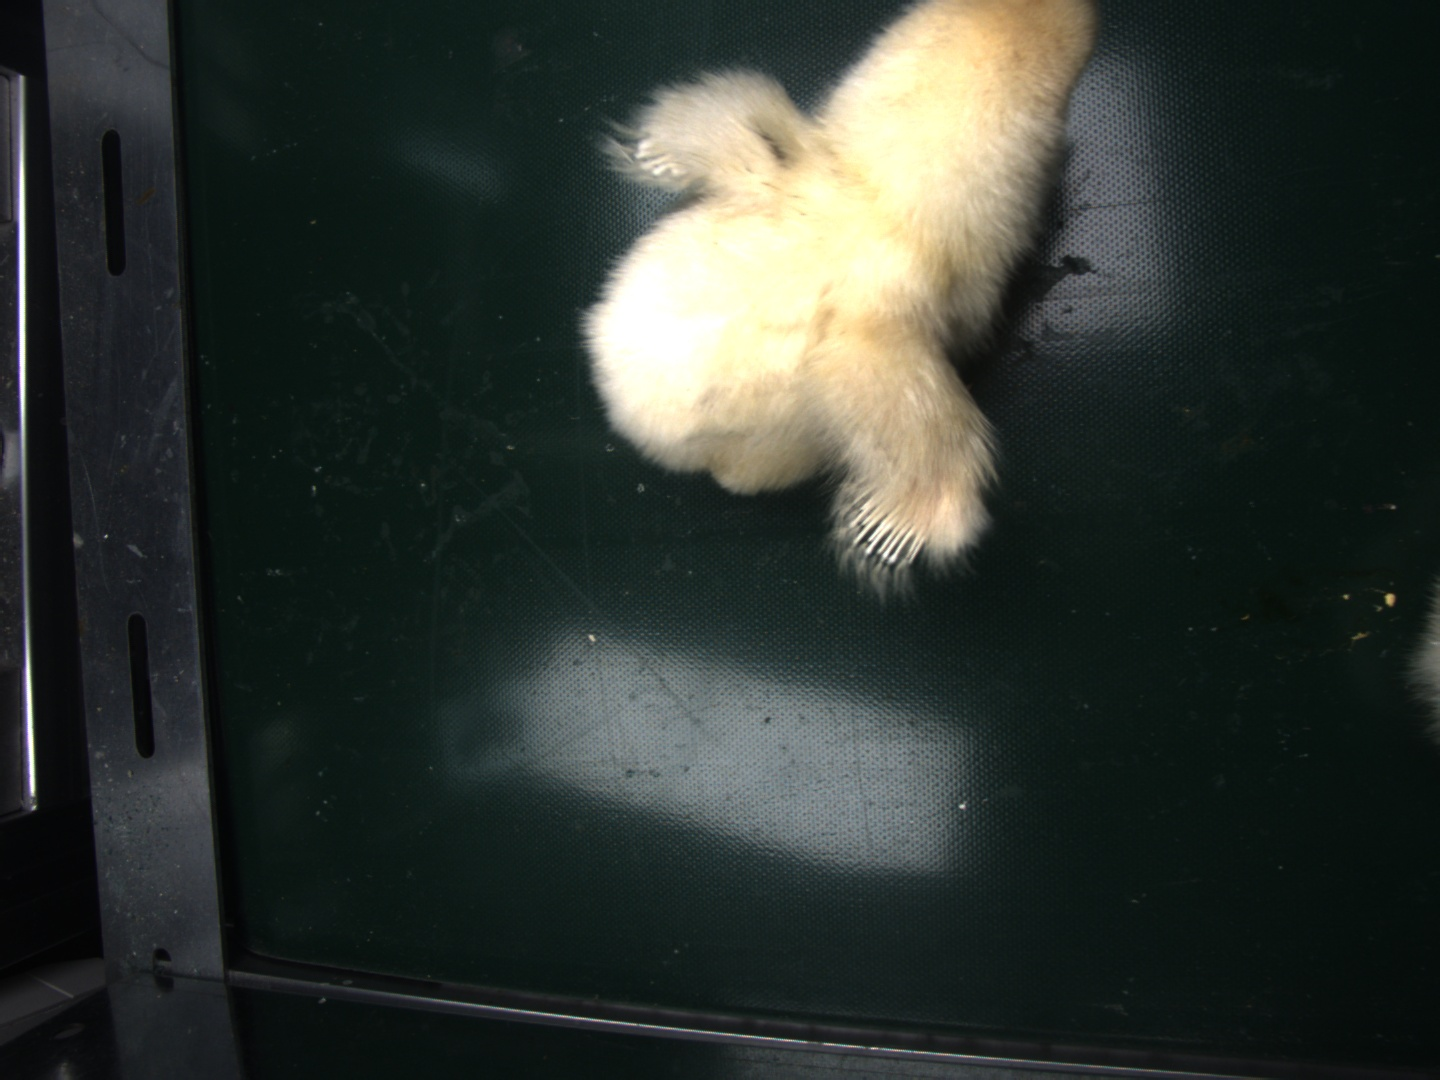male: (845, 486, 927, 565)
